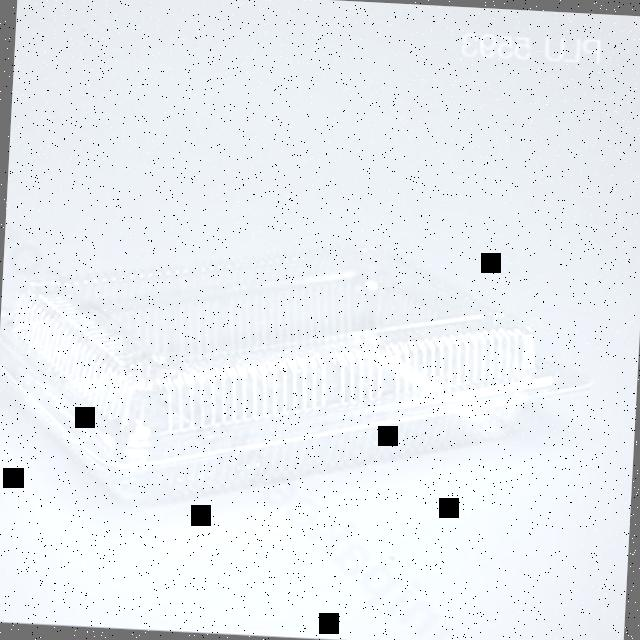plastic_box: (0, 226, 596, 532)
